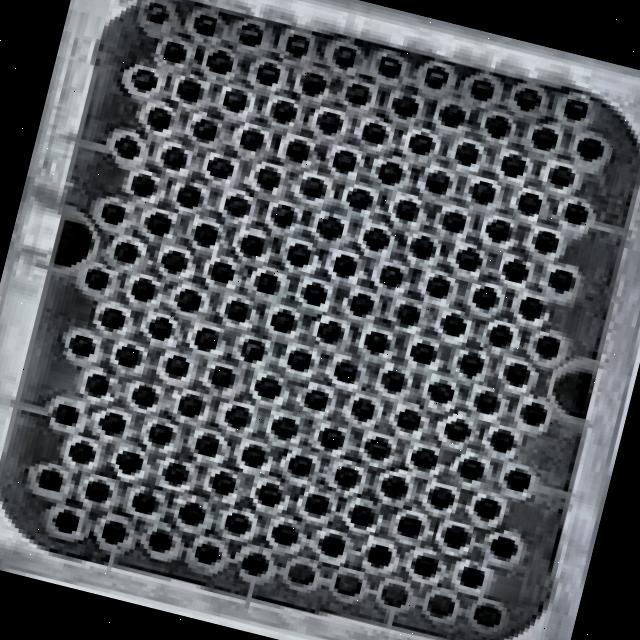vial: (115, 450, 143, 474), (255, 482, 282, 506), (457, 352, 483, 376), (319, 533, 345, 557), (101, 520, 127, 544), (442, 525, 469, 548), (241, 552, 268, 575), (194, 541, 221, 564), (317, 216, 343, 239), (520, 402, 546, 425), (225, 405, 251, 428), (364, 437, 390, 460), (178, 502, 204, 525), (163, 462, 189, 485), (147, 529, 173, 552), (53, 510, 79, 533), (427, 381, 454, 403), (473, 497, 500, 519), (224, 512, 251, 534), (287, 243, 311, 267), (114, 135, 139, 158), (503, 259, 528, 282), (146, 212, 171, 235), (440, 313, 465, 336), (504, 363, 529, 386), (333, 360, 358, 383), (474, 390, 499, 413), (255, 376, 280, 399), (304, 493, 329, 516), (367, 544, 392, 567), (210, 471, 235, 494), (363, 228, 389, 250), (161, 250, 187, 272), (410, 342, 436, 364), (317, 320, 343, 342), (175, 289, 201, 311), (99, 307, 125, 329), (444, 419, 470, 441), (271, 417, 297, 439), (504, 469, 530, 491), (490, 536, 516, 558), (428, 487, 454, 509), (349, 505, 375, 527), (240, 445, 266, 467), (271, 523, 297, 545), (53, 403, 79, 425), (68, 441, 94, 463), (101, 202, 125, 225), (271, 309, 295, 332), (194, 327, 218, 350), (381, 369, 405, 392), (351, 397, 375, 420), (207, 50, 232, 72), (317, 111, 342, 133), (131, 68, 156, 90), (472, 286, 497, 308), (302, 283, 327, 305), (364, 331, 389, 353), (130, 278, 155, 300), (115, 345, 140, 367), (131, 385, 156, 407), (178, 394, 203, 416), (458, 458, 483, 480), (381, 476, 406, 498), (412, 555, 437, 577), (148, 423, 173, 445), (346, 188, 372, 209), (224, 195, 250, 216), (411, 448, 437, 469), (99, 413, 125, 434), (424, 65, 447, 88), (286, 139, 309, 162), (256, 167, 279, 190), (85, 373, 108, 396), (144, 2, 168, 24), (440, 104, 464, 126), (223, 89, 247, 111), (147, 107, 171, 129), (193, 118, 217, 140), (271, 204, 295, 226), (456, 248, 480, 270), (332, 254, 356, 276), (194, 223, 218, 245), (349, 293, 373, 315), (549, 269, 573, 291), (148, 317, 172, 339), (241, 339, 265, 361), (165, 355, 189, 377), (335, 466, 359, 488), (195, 434, 219, 456), (133, 492, 157, 514), (532, 127, 557, 148), (271, 101, 296, 122), (300, 177, 325, 198), (578, 138, 603, 159), (396, 409, 421, 430), (209, 366, 234, 387), (319, 428, 344, 449), (397, 515, 422, 536), (84, 480, 109, 501), (392, 96, 418, 116), (207, 158, 233, 178), (239, 23, 262, 45), (333, 45, 356, 67), (470, 78, 493, 100), (501, 154, 524, 176), (455, 142, 478, 164), (426, 171, 449, 193), (395, 199, 418, 221), (131, 174, 154, 196), (411, 236, 434, 258), (520, 297, 543, 319), (226, 300, 249, 322), (490, 429, 513, 451), (564, 98, 588, 119), (301, 73, 325, 94), (485, 115, 509, 136), (409, 133, 433, 154), (378, 162, 402, 183), (486, 219, 510, 240), (162, 147, 186, 168), (177, 185, 201, 206), (379, 265, 403, 286), (240, 235, 264, 256), (114, 241, 138, 262), (287, 350, 311, 371), (304, 389, 328, 410), (288, 455, 312, 476), (38, 469, 62, 490), (378, 55, 400, 77), (333, 150, 355, 172), (427, 276, 449, 298), (210, 261, 232, 283), (193, 14, 216, 35), (286, 34, 309, 55), (516, 88, 539, 109), (162, 41, 185, 62), (256, 63, 279, 84), (240, 129, 263, 150), (471, 181, 494, 202), (518, 192, 541, 213), (534, 231, 557, 252), (442, 211, 465, 232), (255, 272, 278, 293), (396, 304, 419, 325), (489, 325, 512, 346), (85, 268, 108, 289), (564, 203, 587, 224), (536, 336, 559, 357), (69, 335, 92, 356), (362, 123, 386, 143), (460, 567, 484, 587), (178, 80, 200, 101), (346, 84, 369, 104), (550, 166, 573, 186)
